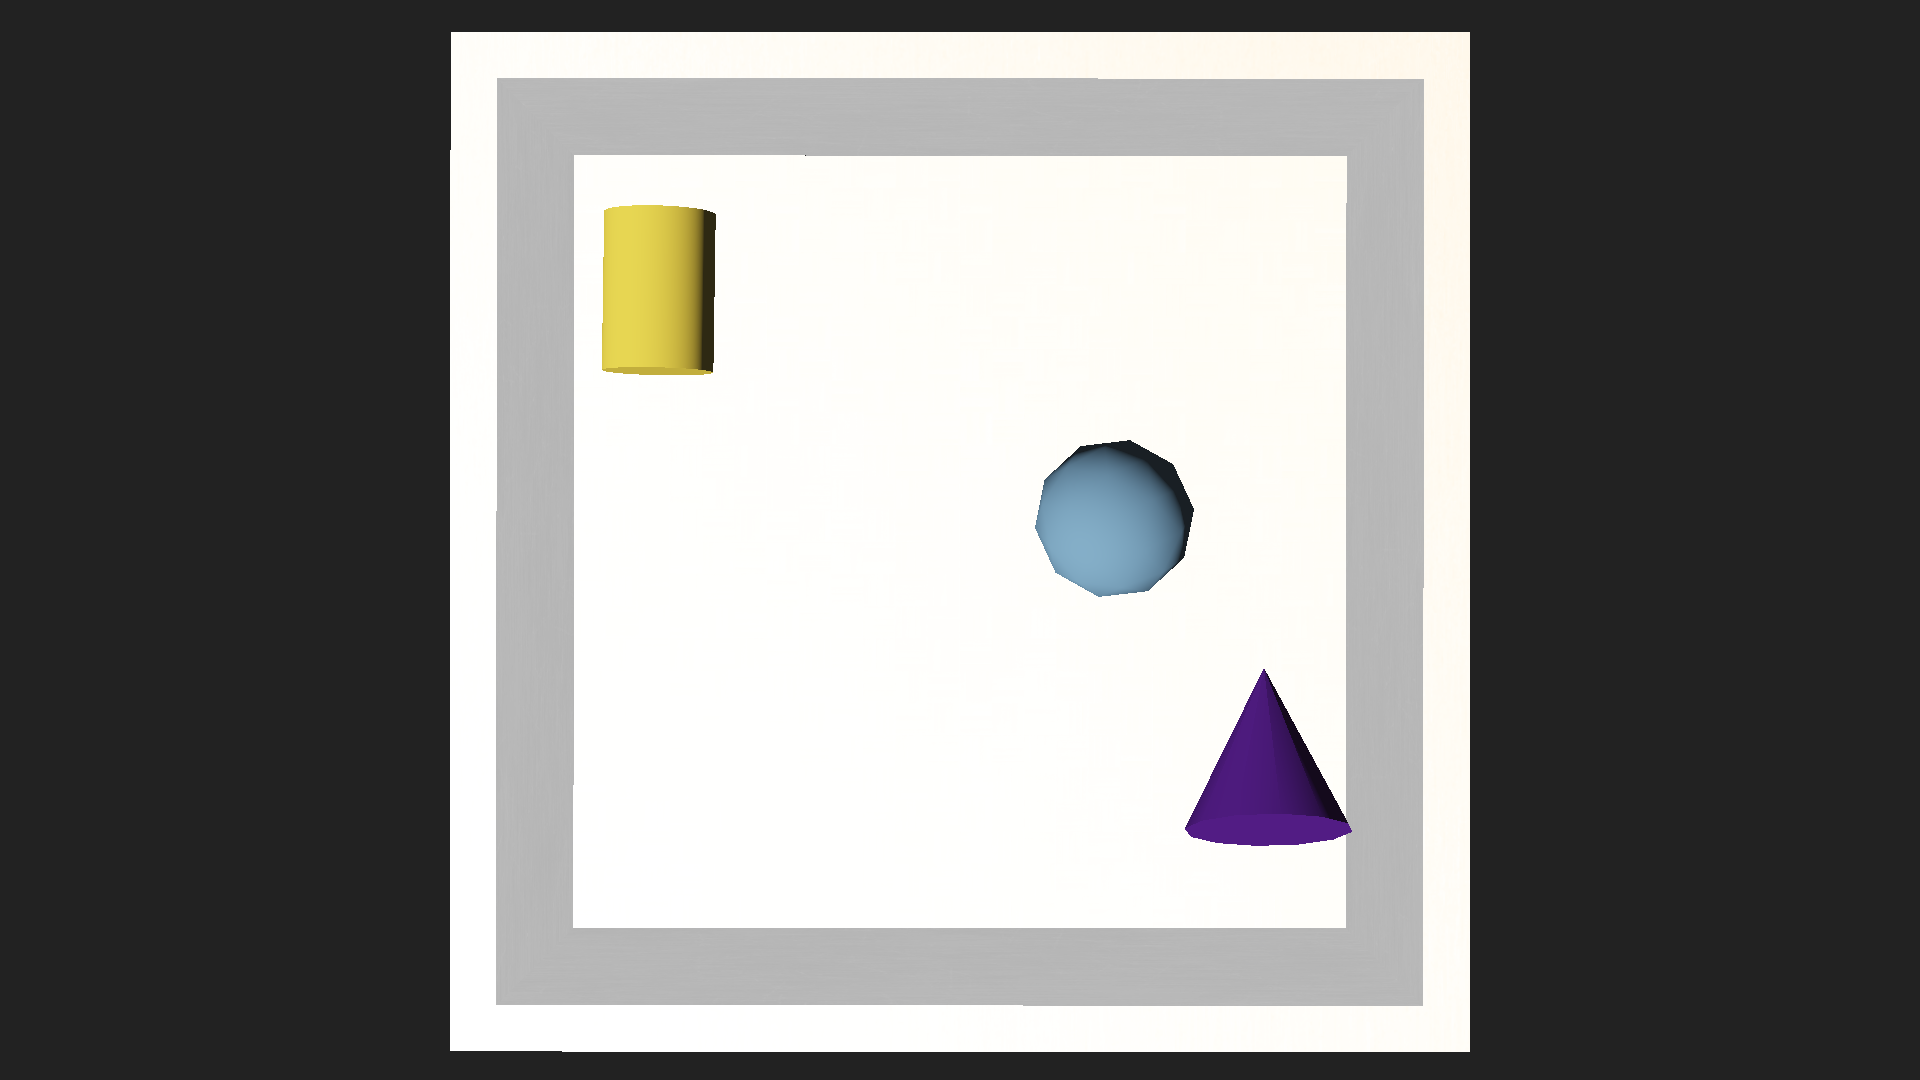cone: (593, 204, 720, 376)
cylinder: (1179, 640, 1360, 865)
sphere: (1033, 439, 1193, 597)
